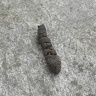Dog: (37, 24, 62, 75)
